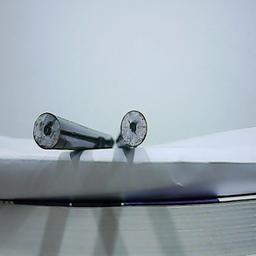pen: (32, 112, 62, 150), (119, 109, 149, 147)
